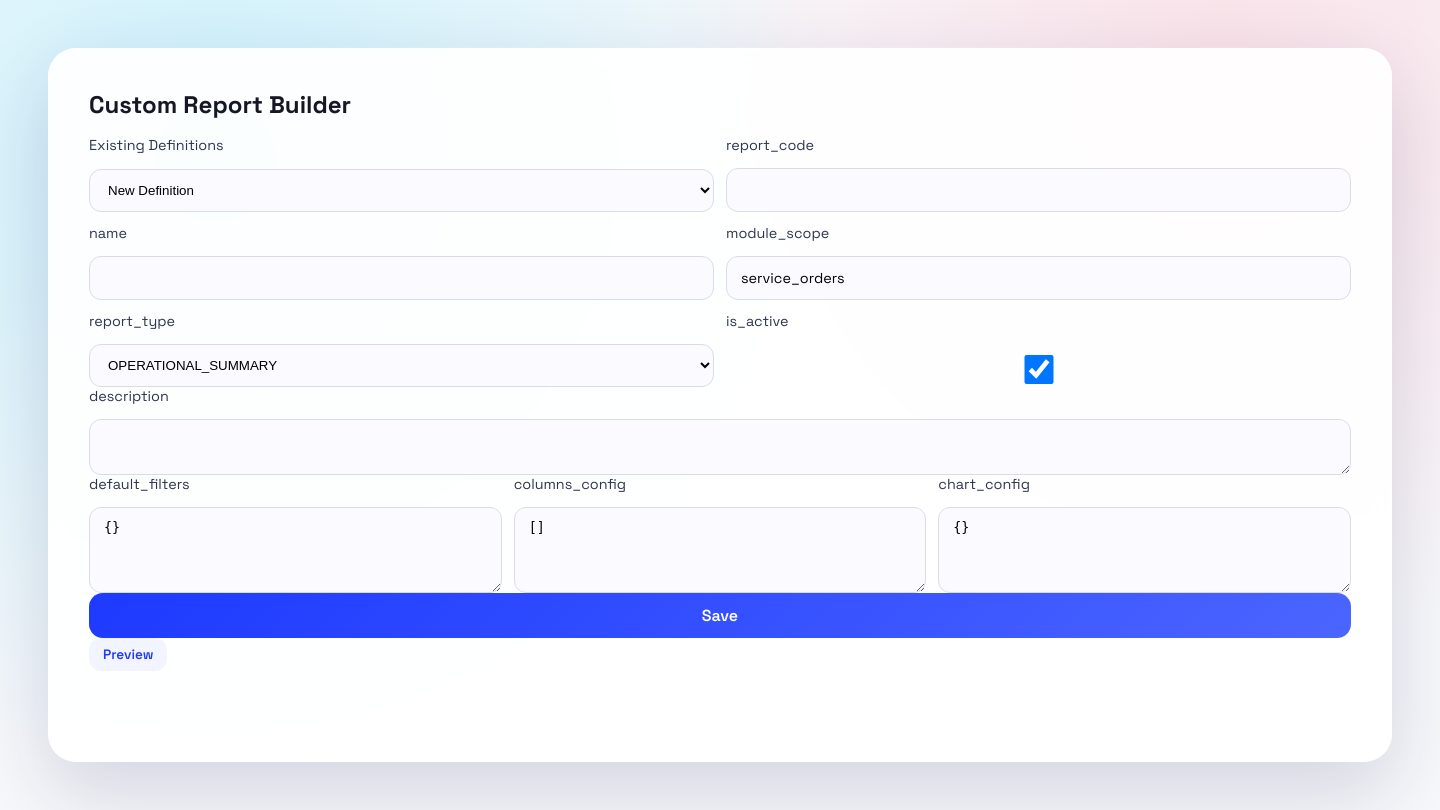
Scenario: report builder state › validates required fields
Click the button "Save" at (720, 616), box [89,593,1351,638]
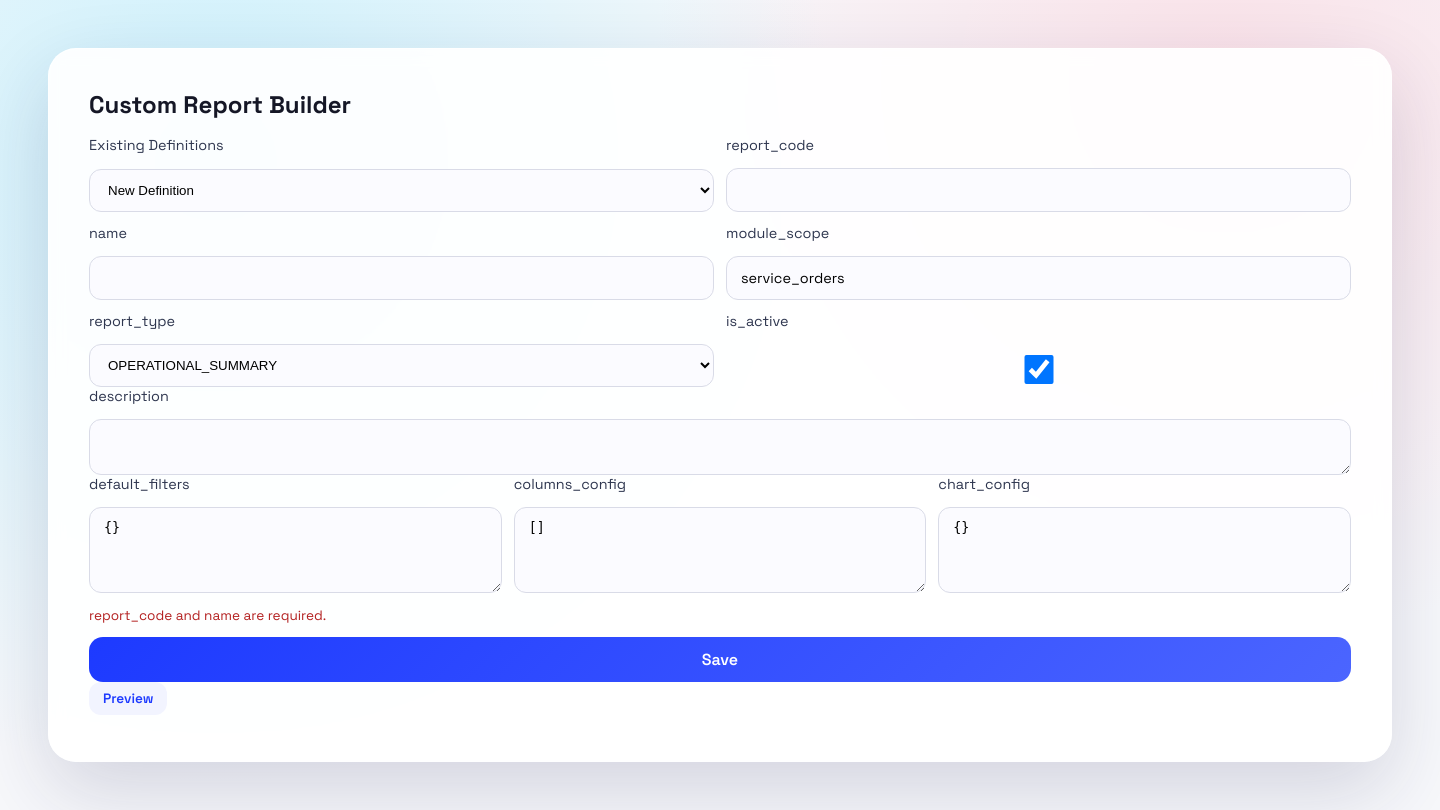
expect the text "report_code and name are required." is shown: met, box [89,607,326,624]
